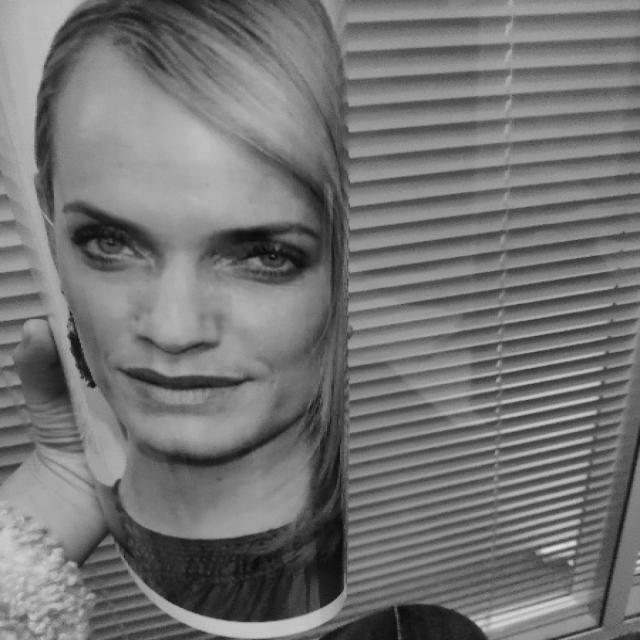fake: (1, 0, 356, 632)
